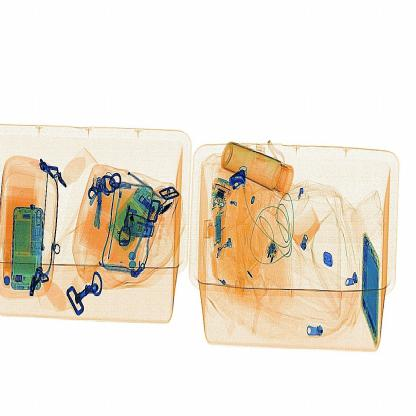knife: (226, 166, 252, 195)
